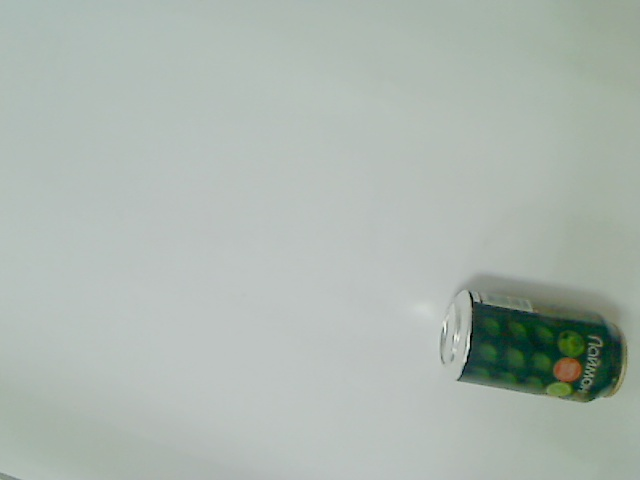can: (436, 286, 632, 403)
